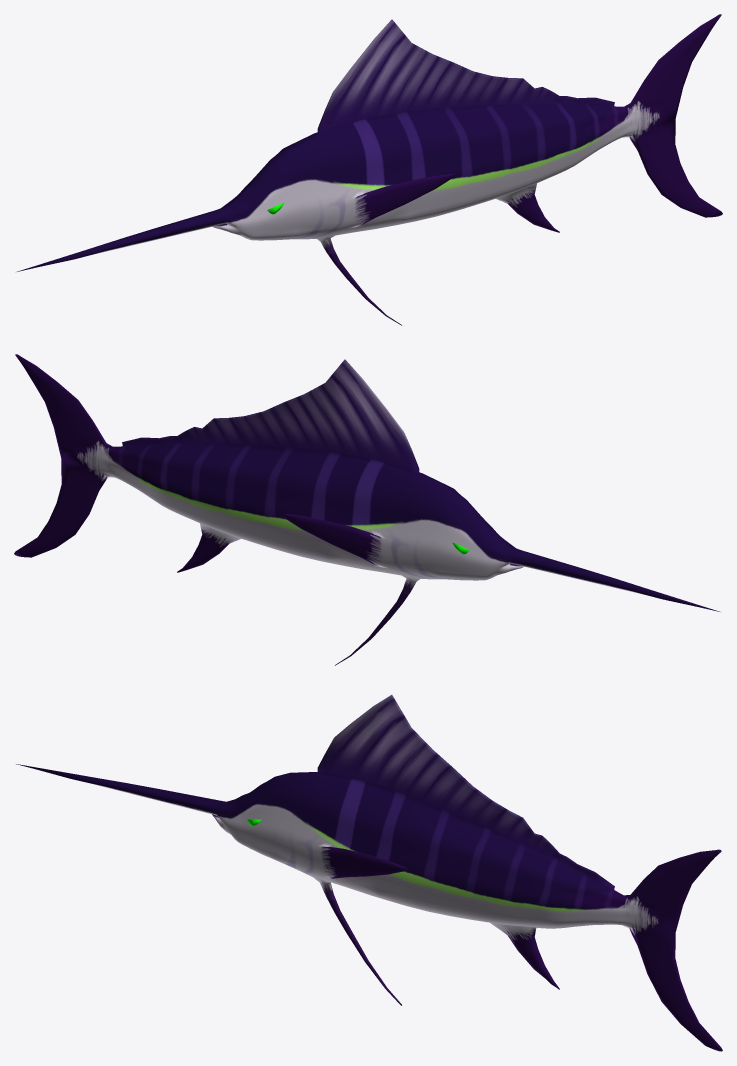
The model's file is kajiki.fbx.
3 views of the same model, one above another, from view 1: azimuth 30°, elevation 25°; view 2: azimuth 150°, elevation 25°; view 3: azimuth 330°, elevation 25° (orthographic).
Visible parts, largest first — view 1: kaziki; view 2: kaziki; view 3: kaziki.
Part boxes in pixels (box(x1,y1,x2,y2)): kaziki: box(17, 14, 722, 325); kaziki: box(14, 354, 719, 665); kaziki: box(16, 694, 722, 1051).
Size of the model in its own units: 136 by 56.46 by 16.82.
1 material, 1 textured.
